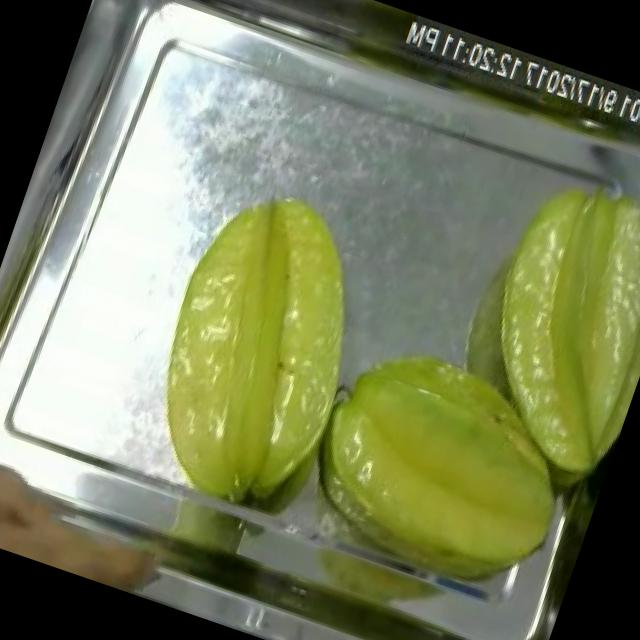fruit: (110, 159, 418, 542), (269, 309, 612, 632), (428, 139, 640, 506), (0, 427, 186, 601)
